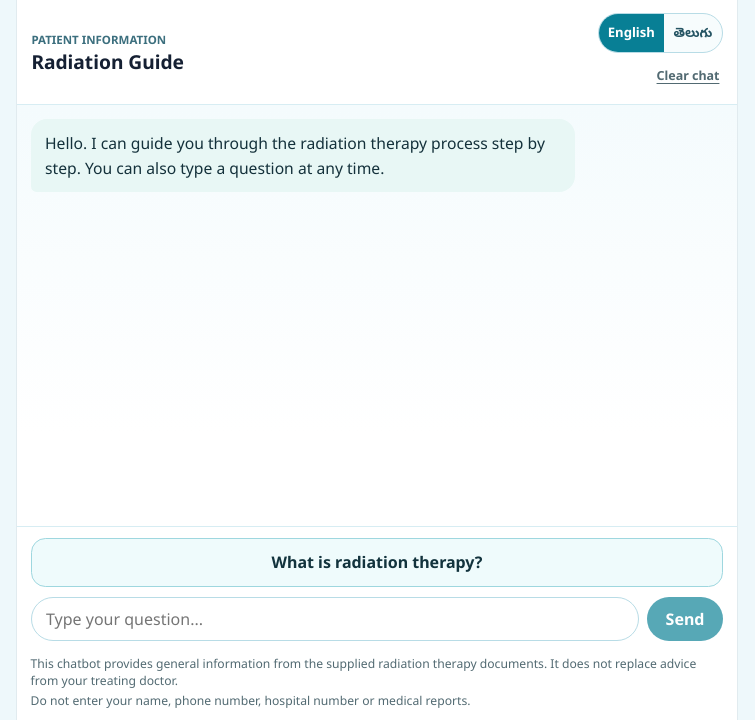
App guided radiation journey UI › keeps guided messages below typed search messages that came before them
This screenshot has width=755, height=720.
In the field labelled "Type your question...": (335, 619) [31,597,639,641], type "Radiation mask enduku vestaru?"
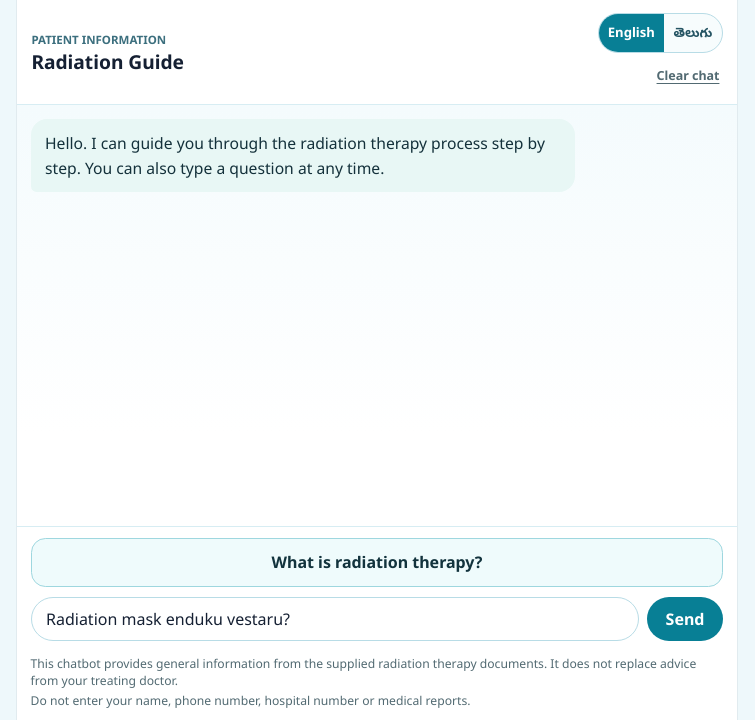
Click the button "Send": (685, 619) [647,597,723,641]
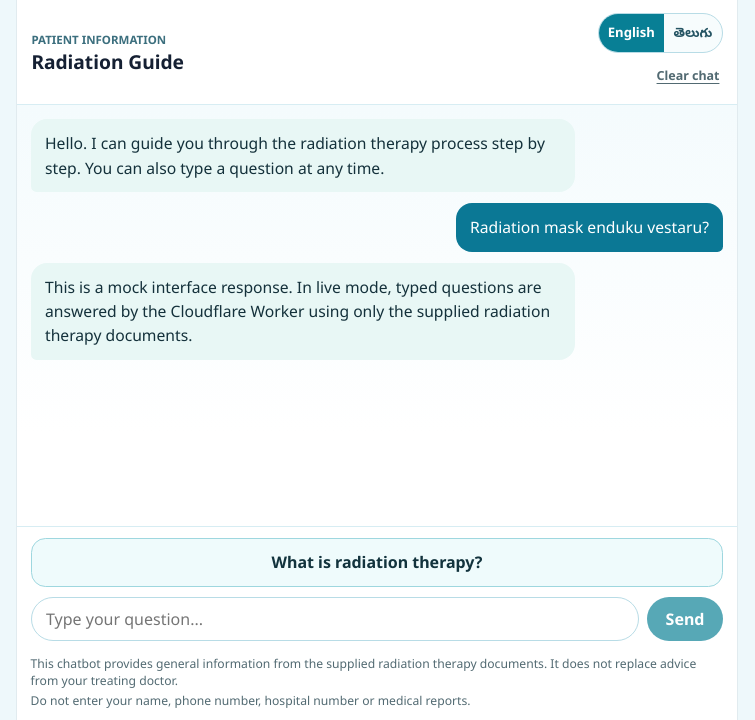
Check: the text "mock interface response" is shown, box [45,276,550,346]
Click the button "What is radiation therapy?": (377, 562) [31,538,723,587]
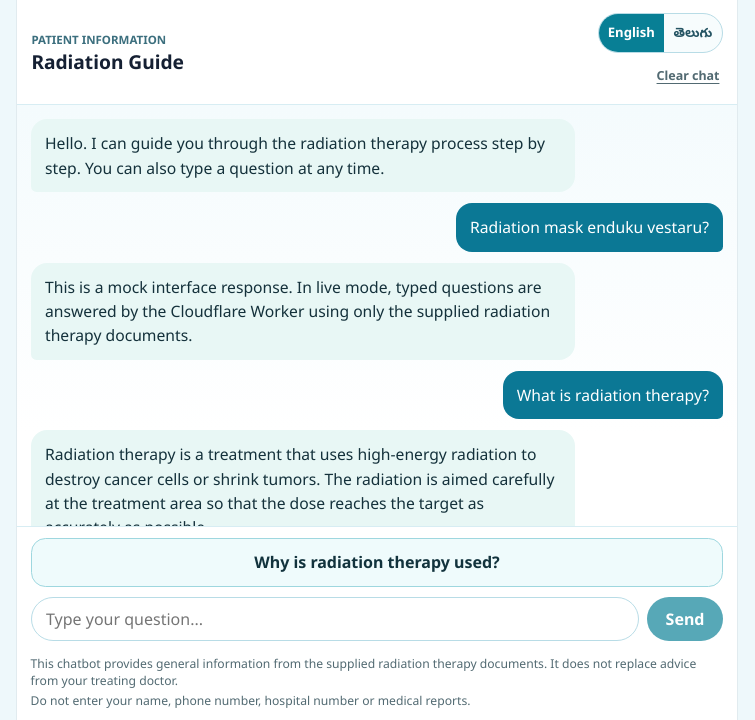
Check: the text "uses high-energy radiation" is shown, box [45,443,554,526]
